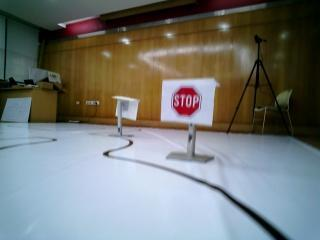stop: (160, 80, 213, 122)
